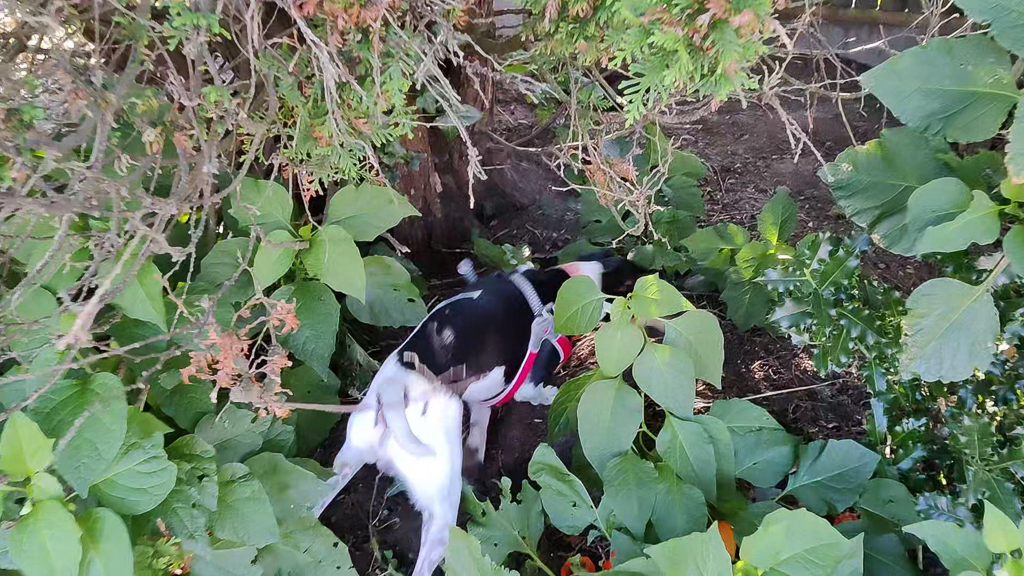Dog: (266, 220, 716, 576)
